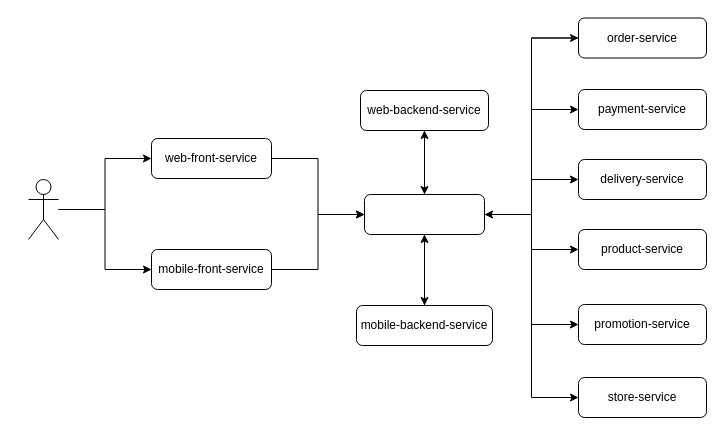
This 724x435 diagram has some shape labels left out. The box of each missing label's shape, as (x1, y1, x2, y2) in pixels:
API gateway: (364, 194, 484, 234)
Customer: (28, 178, 58, 240)
